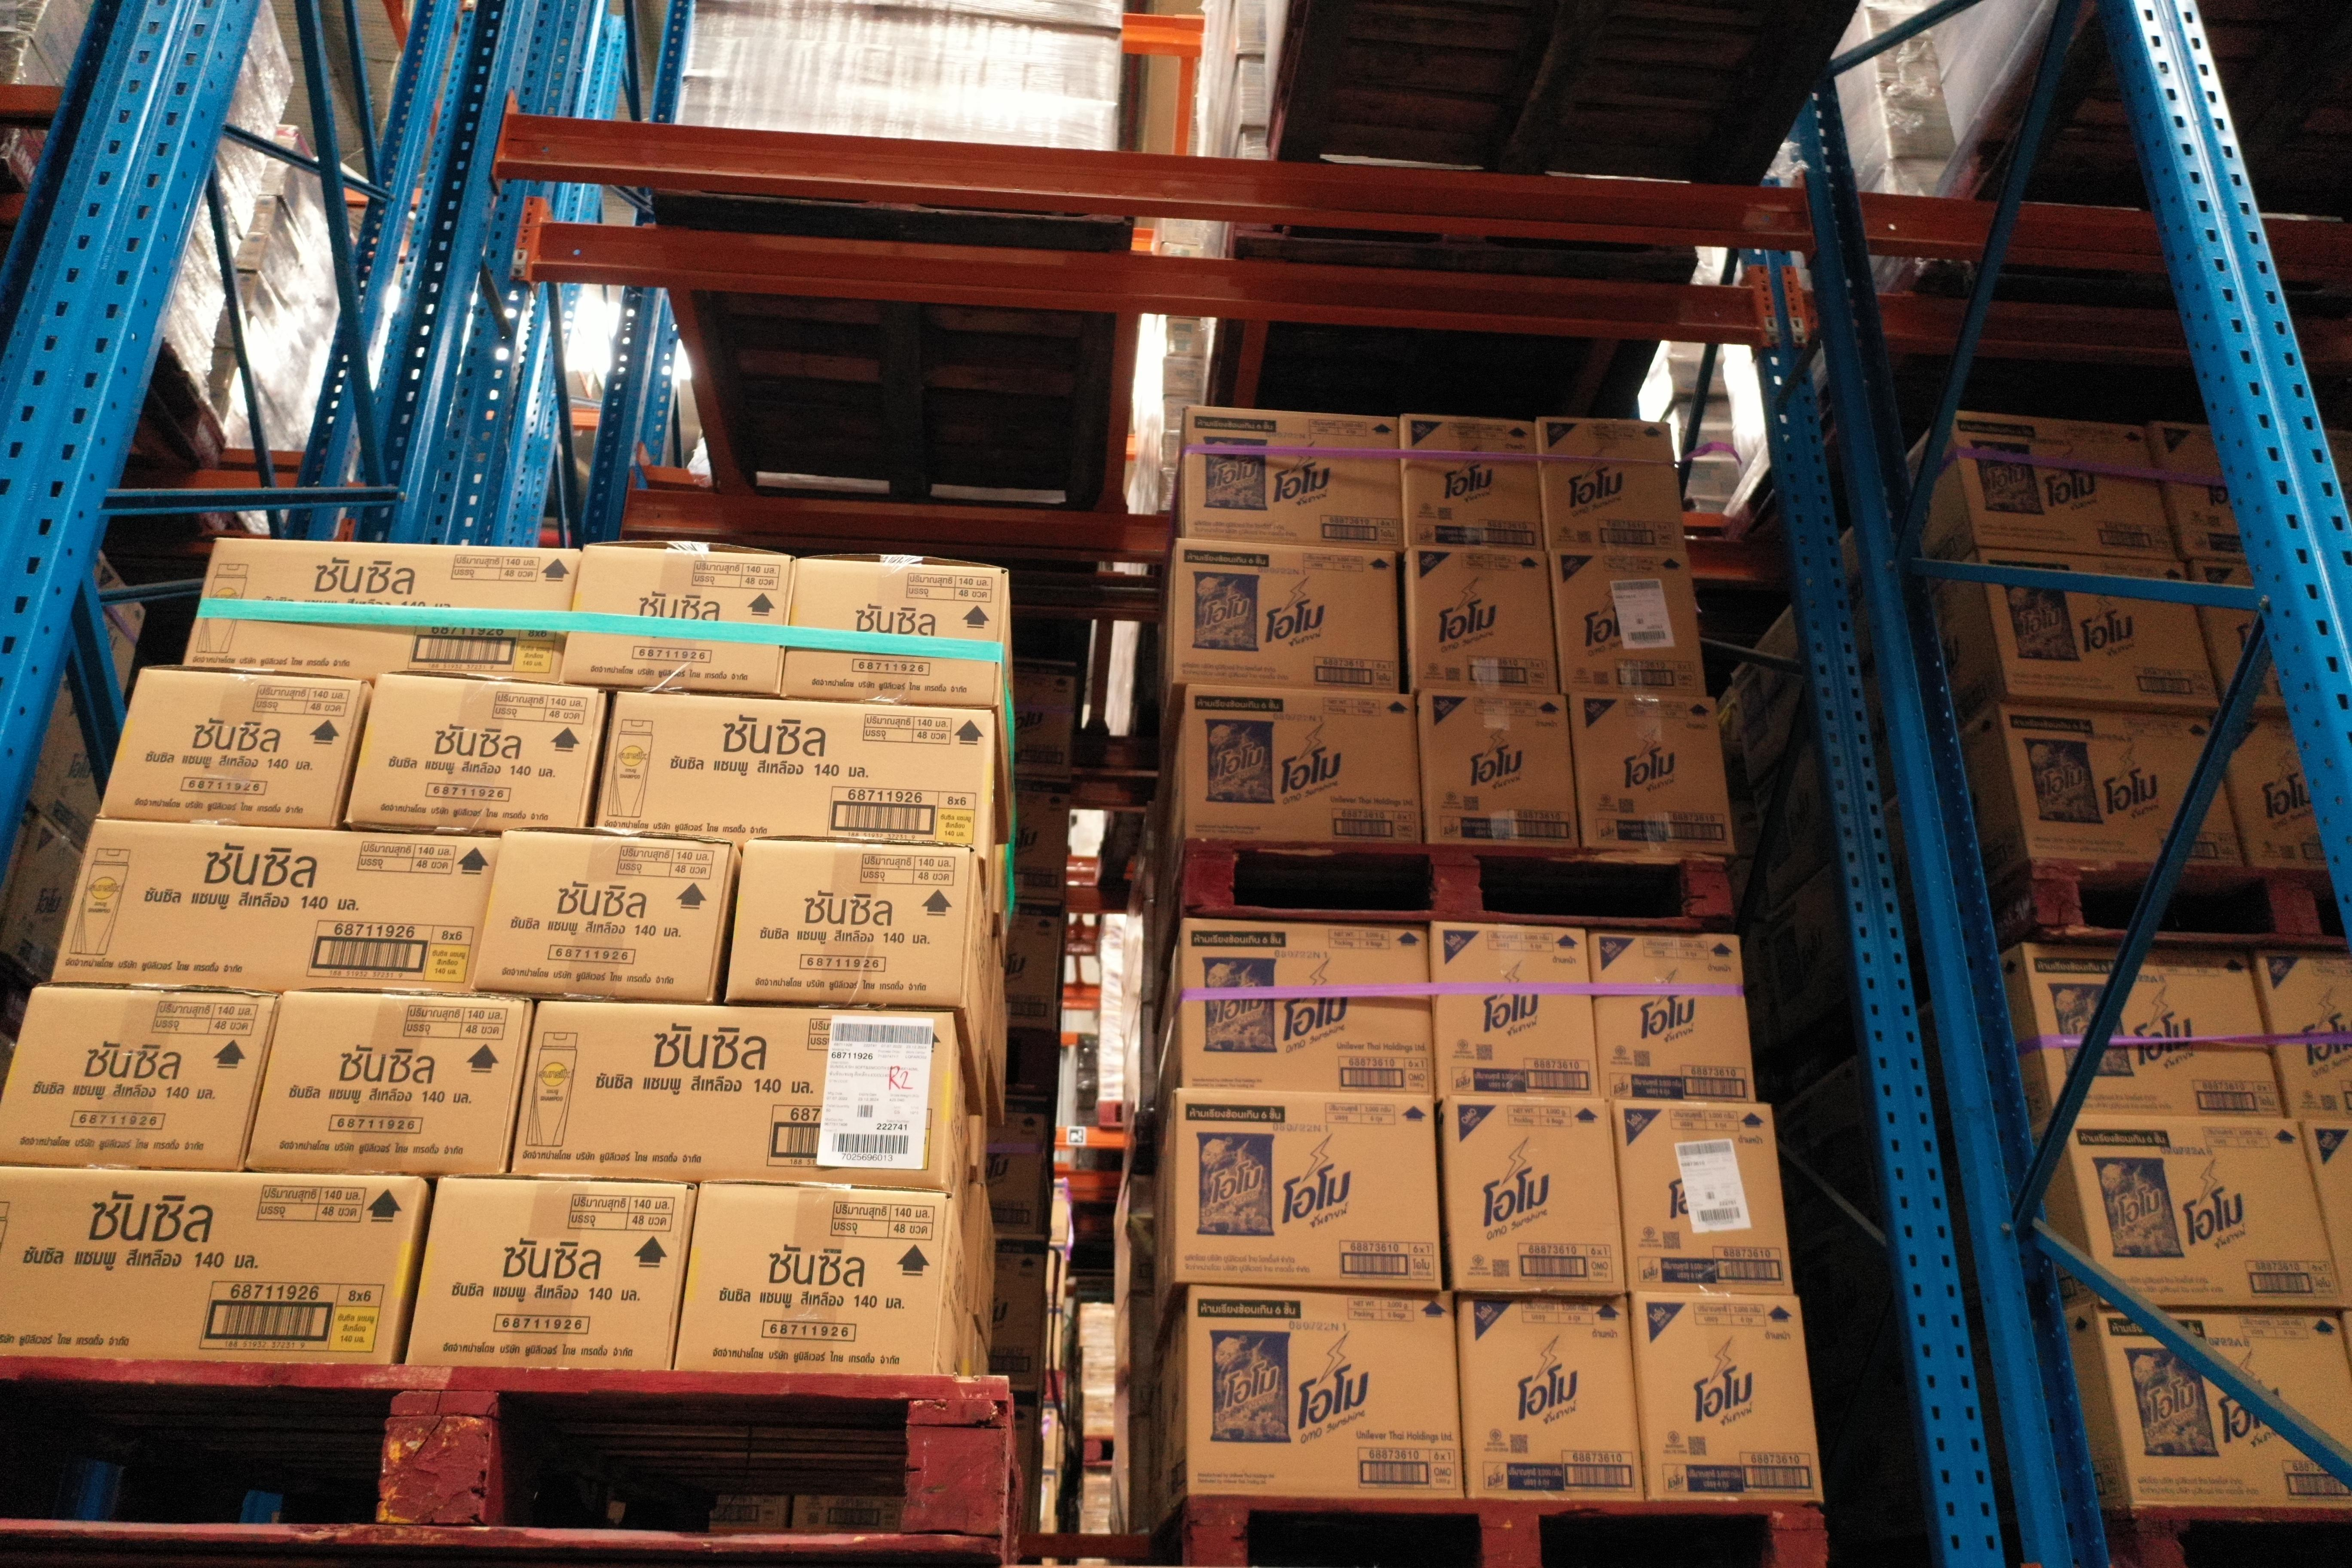-: (0, 1165, 427, 1365), (509, 997, 954, 1188), (47, 817, 502, 997), (593, 686, 992, 849), (180, 535, 584, 686), (404, 1176, 695, 1374), (243, 990, 528, 1176), (0, 980, 276, 1171), (675, 1185, 952, 1375), (474, 829, 735, 1001), (96, 668, 371, 829), (726, 836, 971, 1010), (341, 675, 604, 833), (558, 546, 793, 696), (779, 556, 1006, 709)
box: (1188, 1284, 1463, 1498), (2061, 1113, 2348, 1309), (1176, 1087, 1444, 1293), (2098, 1302, 2352, 1510), (1181, 915, 1435, 1099), (2023, 943, 2289, 1118), (1631, 1293, 1829, 1507), (1998, 698, 2249, 866), (1979, 546, 2224, 710), (1185, 681, 1424, 847), (1458, 1291, 1643, 1505), (1949, 406, 2184, 563), (1440, 1101, 1627, 1297), (1174, 541, 1402, 698), (1612, 1099, 1792, 1297), (1181, 404, 1407, 553), (1430, 920, 1601, 1101), (1591, 933, 1759, 1104), (1571, 695, 1734, 856), (1419, 689, 1580, 850), (1547, 549, 1708, 700), (1405, 549, 1561, 696), (1535, 415, 1689, 555), (1398, 413, 1545, 553), (2254, 952, 2352, 1120)
